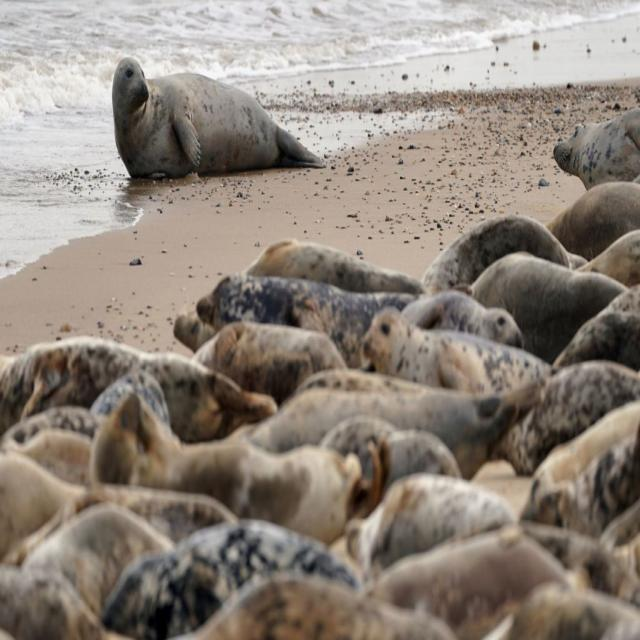WaterDog: (108, 54, 330, 183)
